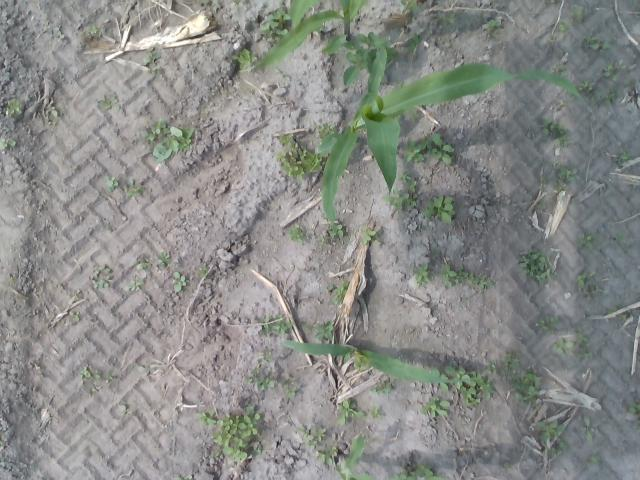Maize: (322, 46, 582, 226), (281, 338, 480, 385), (254, 0, 370, 70), (334, 434, 376, 480)
Weeds: (343, 32, 399, 85), (212, 405, 263, 462), (274, 130, 330, 181), (140, 117, 195, 162), (500, 349, 541, 405), (444, 364, 495, 407), (403, 132, 455, 164), (436, 262, 494, 290), (518, 245, 556, 286), (243, 352, 276, 391), (260, 7, 291, 44), (574, 270, 604, 304), (540, 117, 571, 149), (387, 464, 449, 480), (422, 195, 456, 224), (258, 312, 294, 336), (380, 189, 418, 211), (336, 398, 364, 425), (418, 396, 452, 418), (298, 423, 326, 448), (77, 365, 101, 393), (230, 47, 258, 71), (574, 326, 592, 361), (325, 280, 350, 305), (536, 418, 564, 438), (601, 60, 628, 80), (588, 88, 618, 106), (583, 34, 611, 52), (91, 265, 111, 289), (429, 368, 449, 392), (287, 222, 308, 244), (312, 318, 333, 340), (315, 446, 338, 466), (359, 226, 382, 246), (413, 261, 430, 288), (140, 50, 160, 72), (550, 336, 574, 354), (548, 442, 570, 460), (398, 172, 417, 192), (279, 376, 297, 397), (194, 408, 216, 425), (536, 314, 558, 331), (581, 416, 595, 442), (613, 147, 633, 165), (576, 232, 598, 248), (371, 380, 395, 394), (485, 18, 500, 40), (98, 92, 117, 109), (126, 179, 145, 196), (313, 123, 336, 137), (608, 305, 628, 321), (172, 270, 186, 292), (407, 32, 421, 54), (5, 98, 22, 116), (558, 166, 577, 182), (326, 222, 344, 238), (438, 9, 456, 25), (124, 278, 144, 292), (400, 0, 418, 15), (156, 252, 172, 268), (104, 174, 118, 192), (552, 63, 568, 78), (86, 23, 101, 38), (628, 400, 640, 418), (570, 6, 584, 20), (557, 18, 569, 34), (0, 137, 16, 149), (486, 358, 498, 374), (577, 80, 592, 92), (369, 407, 384, 418), (500, 462, 514, 472), (69, 311, 81, 322), (614, 232, 626, 243), (553, 182, 565, 193), (136, 261, 152, 269), (555, 100, 566, 111), (198, 265, 208, 277), (587, 456, 600, 465), (551, 160, 561, 170), (50, 108, 60, 118), (300, 322, 311, 331), (202, 0, 218, 6), (548, 34, 556, 44), (316, 236, 325, 244), (540, 0, 554, 5), (540, 176, 548, 184), (104, 372, 112, 379), (173, 475, 184, 480), (636, 419, 640, 432), (8, 276, 14, 282)
